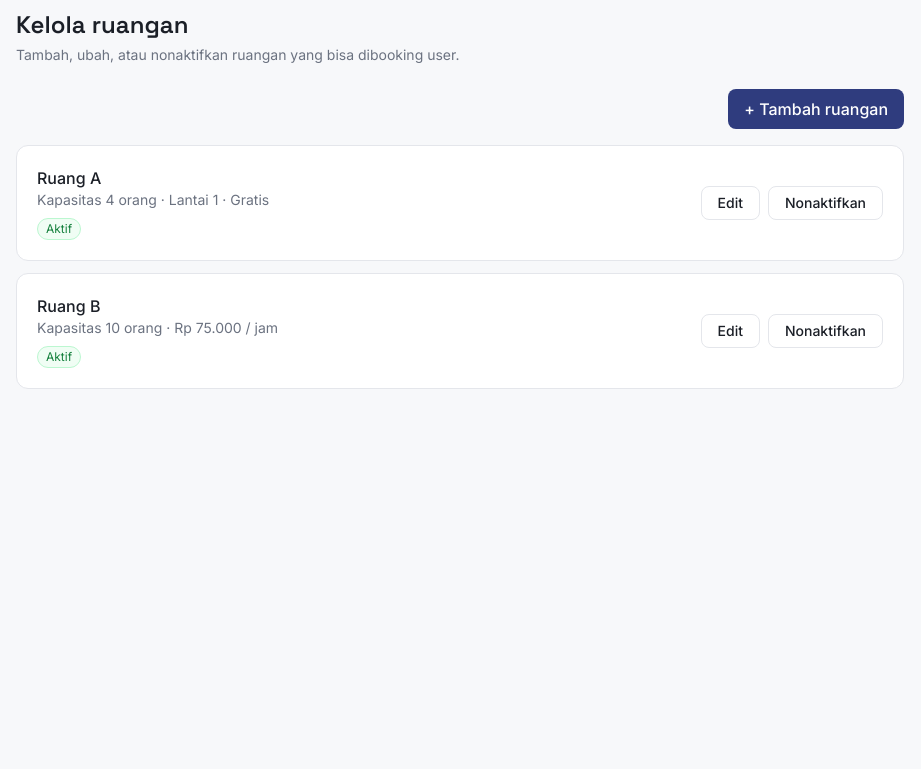
Test: AdminResourcesPage › me-refresh daftar setelah create berhasil sehingga resource baru muncul
Check: the text "Ruang A" is shown, box [37,168,101,188]
Check: the text "Ruang Test" is not shown
Click the button "+ Tambah ruangan" at (816, 109), box [728,89,904,129]
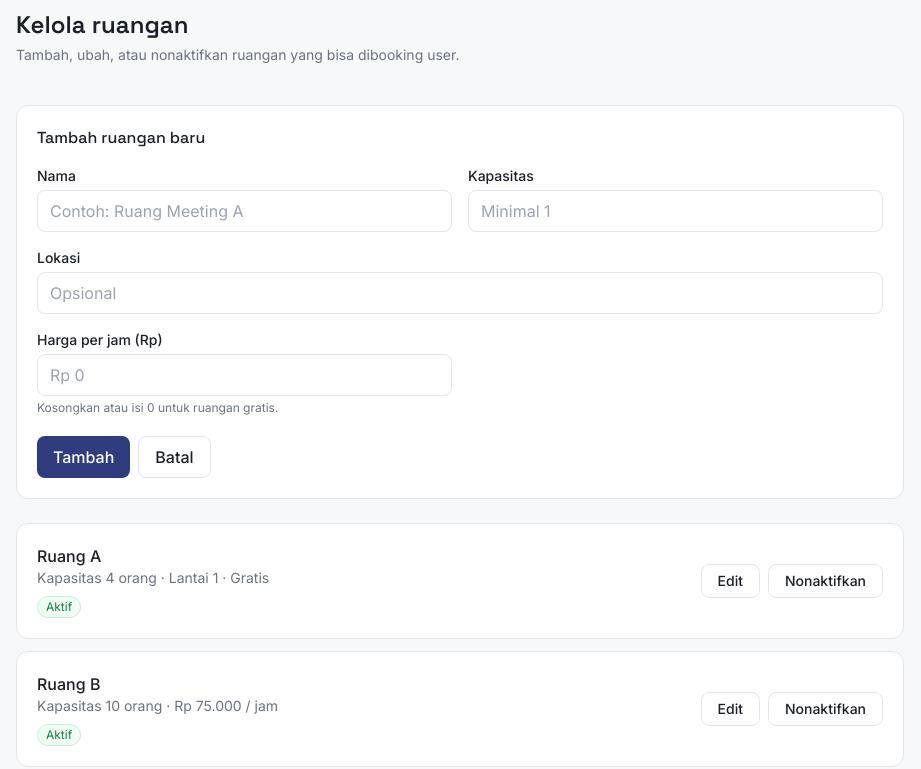
Type "Ruang Test" into the field with placeholder "Contoh: Ruang Meeting A" at (244, 211), box [37,190,452,232]
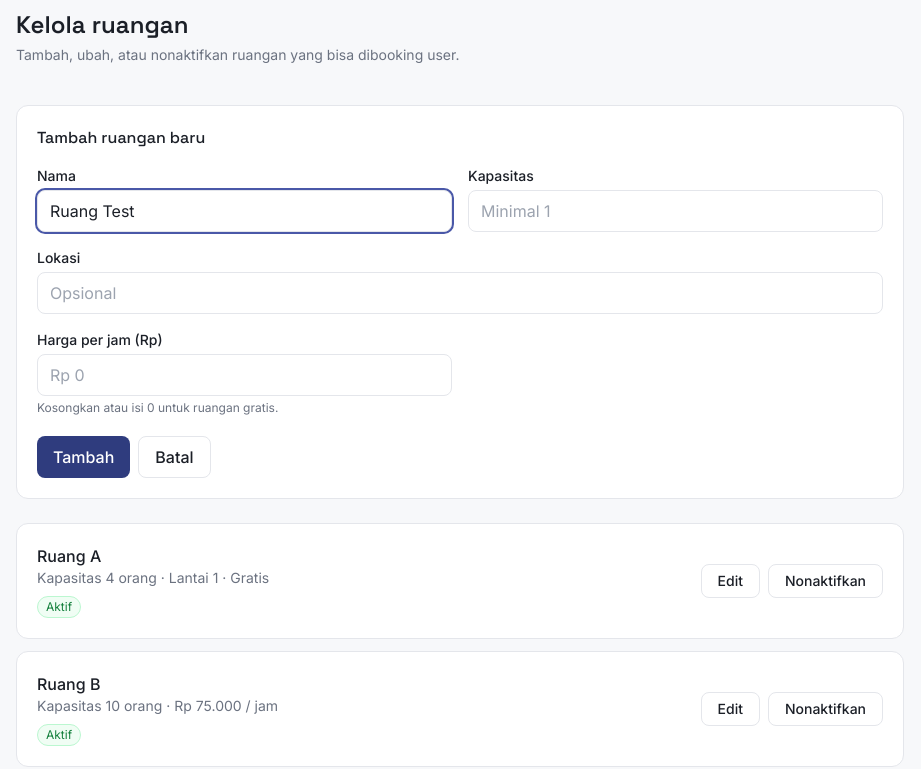
Type "6" into the number field with placeholder "Minimal 1" at (676, 211), box [468,190,883,232]
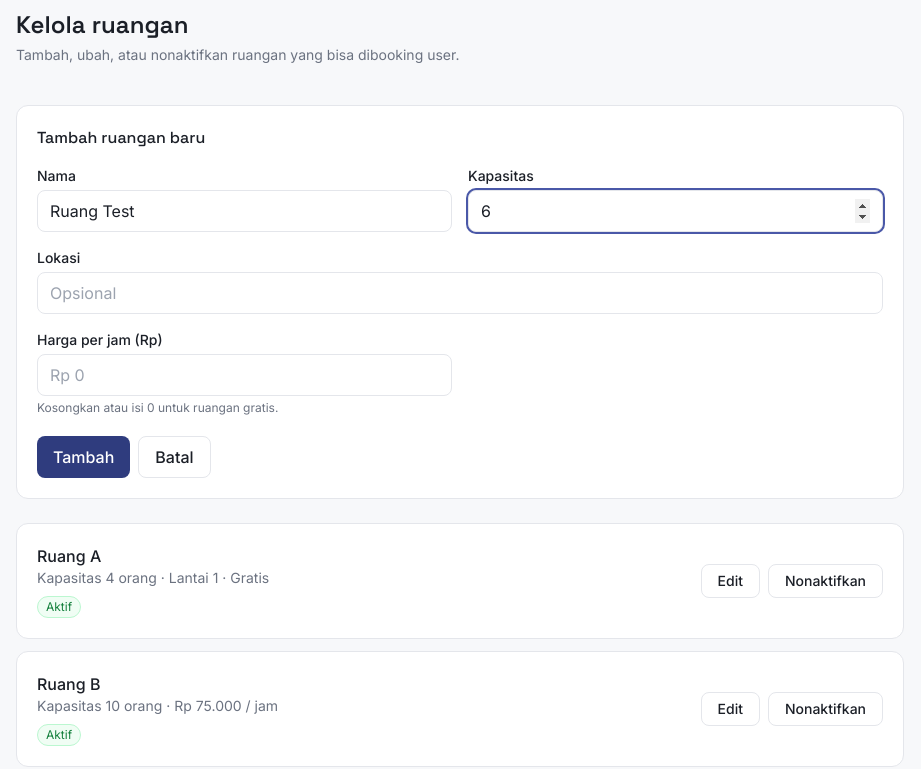
Click the button "Tambah" at (84, 457), box [37,436,130,478]
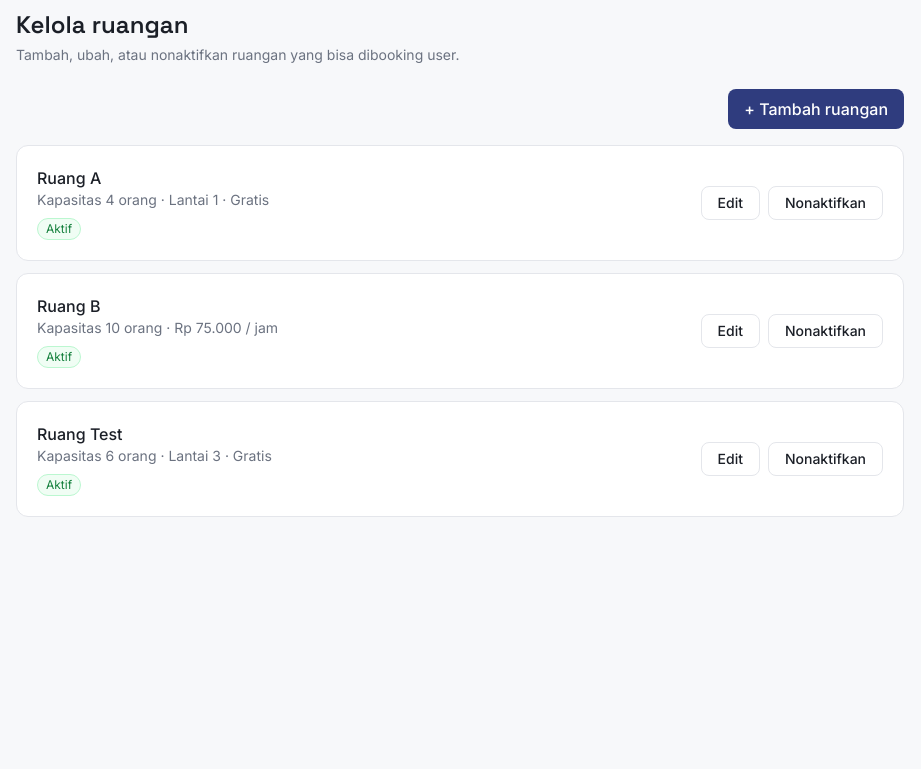
Check: the text "Ruang Test" is shown, box [37,424,122,444]
